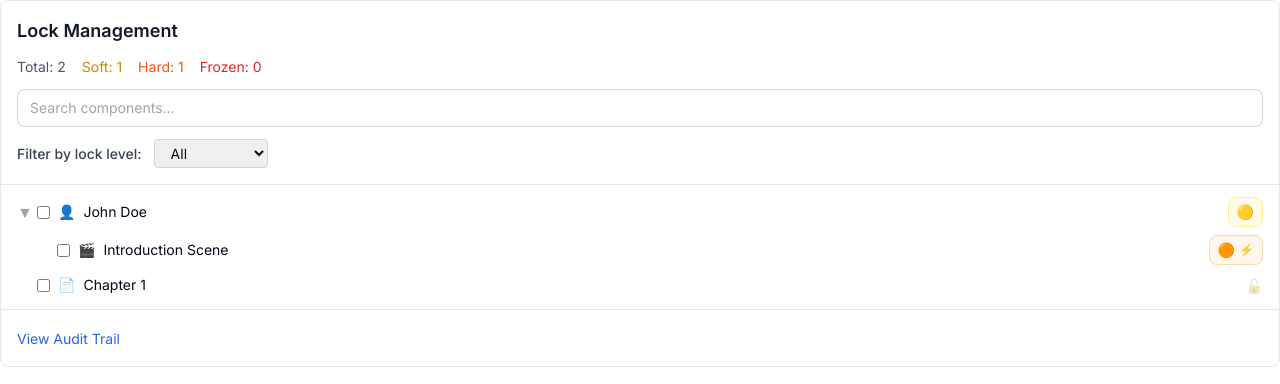
Scenario: LockManagementPanel › Component Tree Display › expands and collapses tree nodes
The width and height of the screenshot is (1280, 384).
Expected: the text "Introduction Scene" is shown, [104,241,228,258]
// Find and click the expand/collapse button for the character
Click the button "▼" at {"x": 25, "y": 212}, box [17,204,33,220]
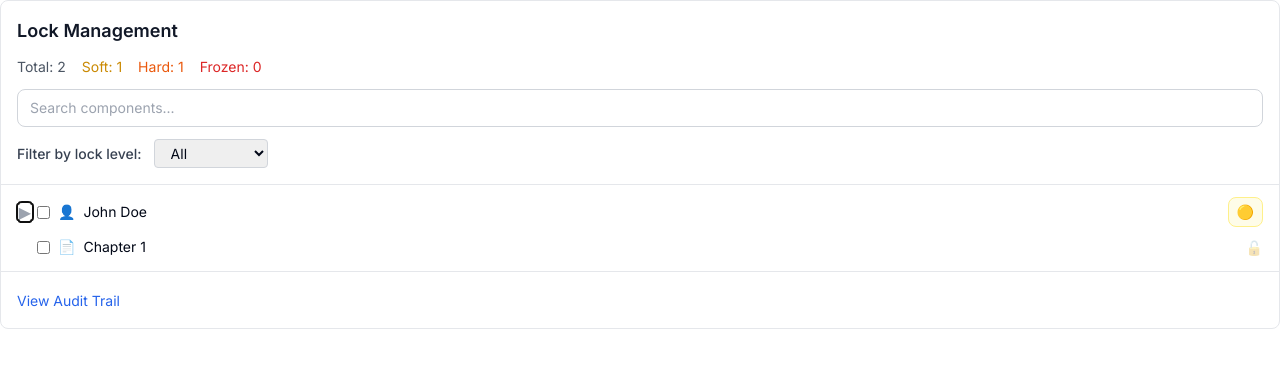
Expected: the text "Introduction Scene" is gone
// Click again to expand
Click the button "▶" at {"x": 25, "y": 212}, box [17,204,33,220]
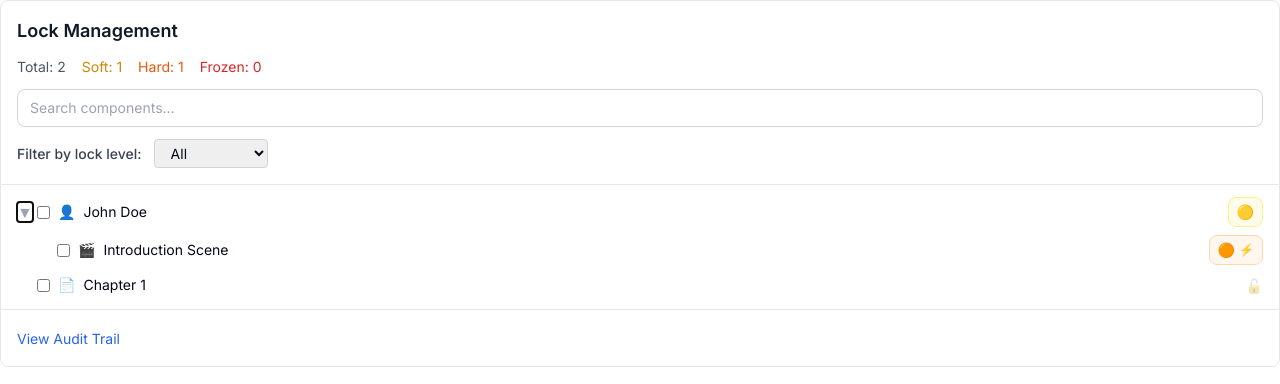
Expected: the text "Introduction Scene" is shown, [104,241,228,258]
